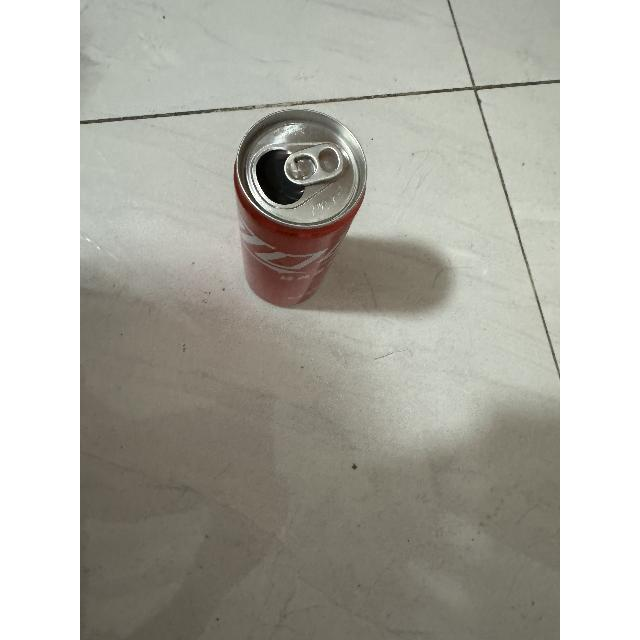coca-cola: (230, 104, 374, 314)
